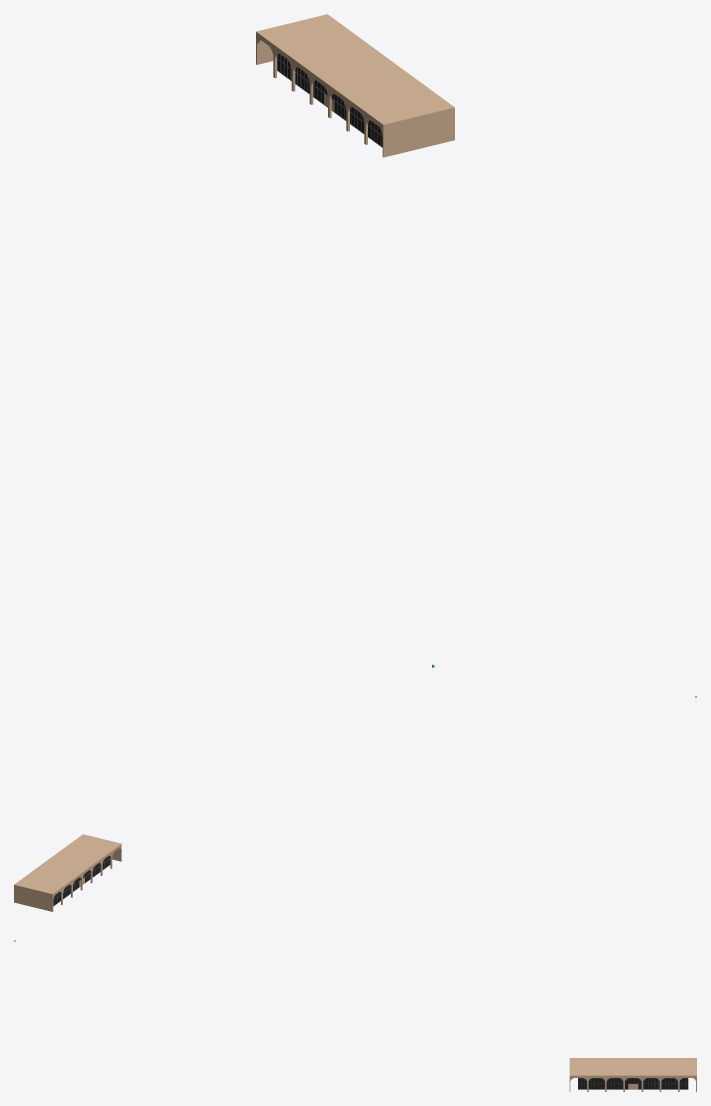
The model's file is rectorat.glb.
The picture shows the model from 3 angles, top to bottom: view 1: azimuth 30°, elevation 25°; view 2: azimuth 150°, elevation 25°; view 3: azimuth 270°, elevation 25°; orthographic projection. The views are drawn at different scales.
Parts seen in each view (by area): view 1: rectorat; view 2: rectorat; view 3: rectorat.
Boxes of the visible parts, x1,y1,x2,y2 form: rectorat: (256,14,454,157); rectorat: (14,834,121,911); rectorat: (569,1058,696,1091).
Bounding box in the file's own units: 163 × 8.86 × 334.
Materials: 1 (1 with a texture image).
